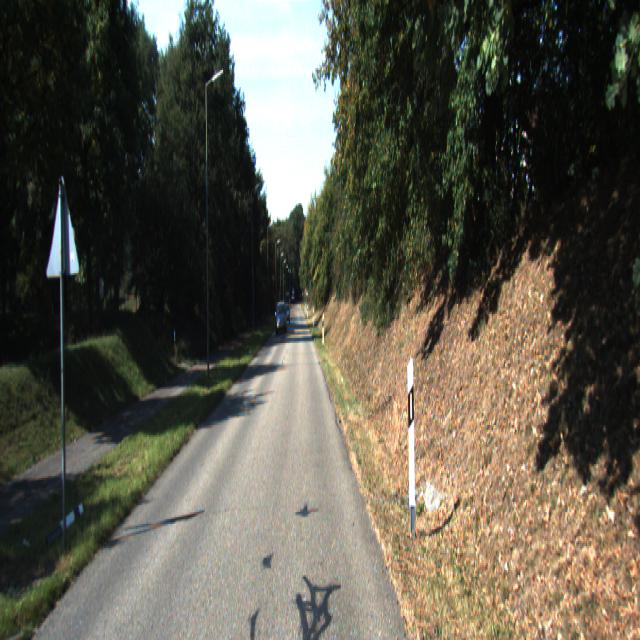Car: (275, 302, 287, 336)
